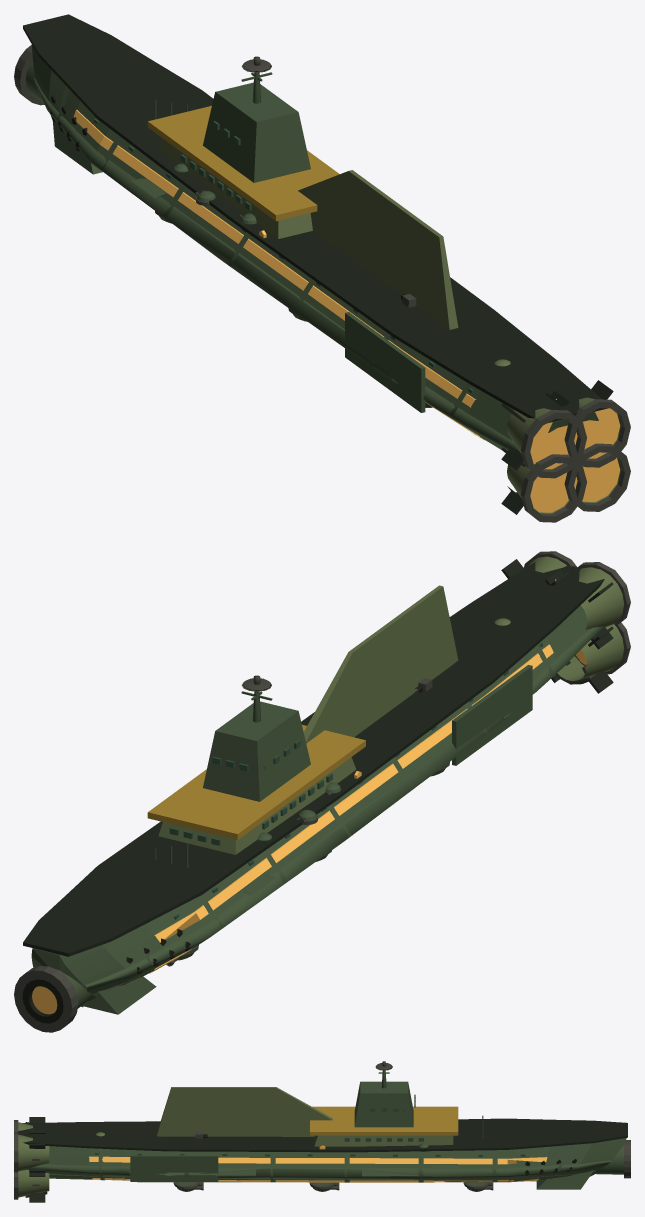
Rendered from garmillas_gaiderol.obj.
3 renders of one model, top to bottom at view 1: azimuth 30°, elevation 25°; view 2: azimuth 150°, elevation 25°; view 3: azimuth 270°, elevation 25°, orthographic. The views are drawn at different scales.
Visible parts, largest first — view 1: hull, engine_nozzle, wing, bridge, superstructure, radiator, wave_motion_gun; view 2: hull, wing, superstructure, bridge, engine_nozzle, radiator, wave_motion_gun, anti_air; view 3: hull, wing, superstructure, bridge, engine_nozzle, radiator, anti_air, wave_motion_gun.
Part boxes in pixels (box(x1,y1,x2,y2)): hull: box(23, 14, 607, 455); engine_nozzle: box(501, 380, 630, 522); wing: box(131, 170, 458, 329); bridge: box(180, 56, 510, 366); superstructure: box(94, 99, 473, 393); radiator: box(345, 312, 425, 412); wave_motion_gun: box(14, 45, 44, 105); hull: box(23, 562, 604, 1014); wing: box(242, 585, 458, 895); superstructure: box(147, 642, 542, 919); bridge: box(169, 618, 510, 845); engine_nozzle: box(501, 551, 630, 693); radiator: box(452, 665, 532, 765); wave_motion_gun: box(14, 966, 93, 1032); anti_air: box(166, 762, 449, 966); hull: box(17, 1118, 627, 1189); wing: box(156, 1087, 459, 1168); superstructure: box(95, 1106, 525, 1156); bridge: box(96, 1061, 455, 1141); engine_nozzle: box(14, 1117, 49, 1202); radiator: box(130, 1155, 218, 1181); anti_air: box(173, 1143, 493, 1191); wave_motion_gun: box(593, 1140, 630, 1178).
Size of the model in its own units: 46 by 81.11 by 350.
